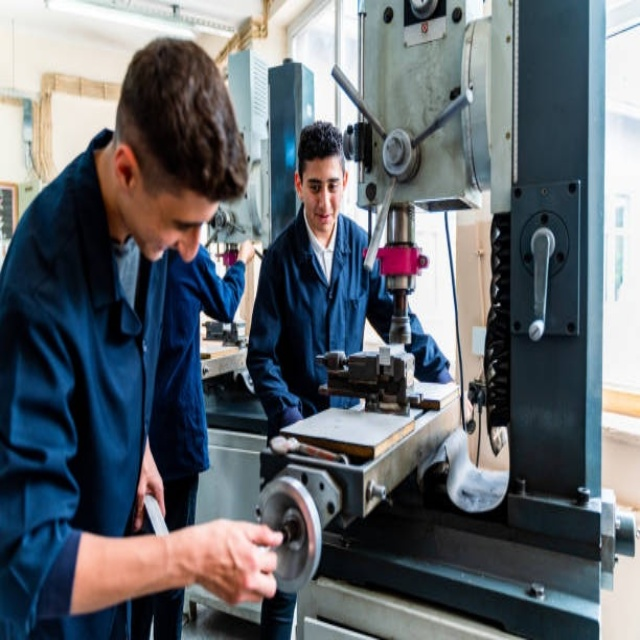Sin_gafas: (158, 201, 200, 240), (302, 169, 346, 198)
Sin_guantes: (179, 517, 286, 609), (133, 437, 165, 532), (237, 239, 260, 267), (460, 391, 474, 427)
Sin_mascara: (145, 237, 184, 270), (312, 202, 339, 229)
